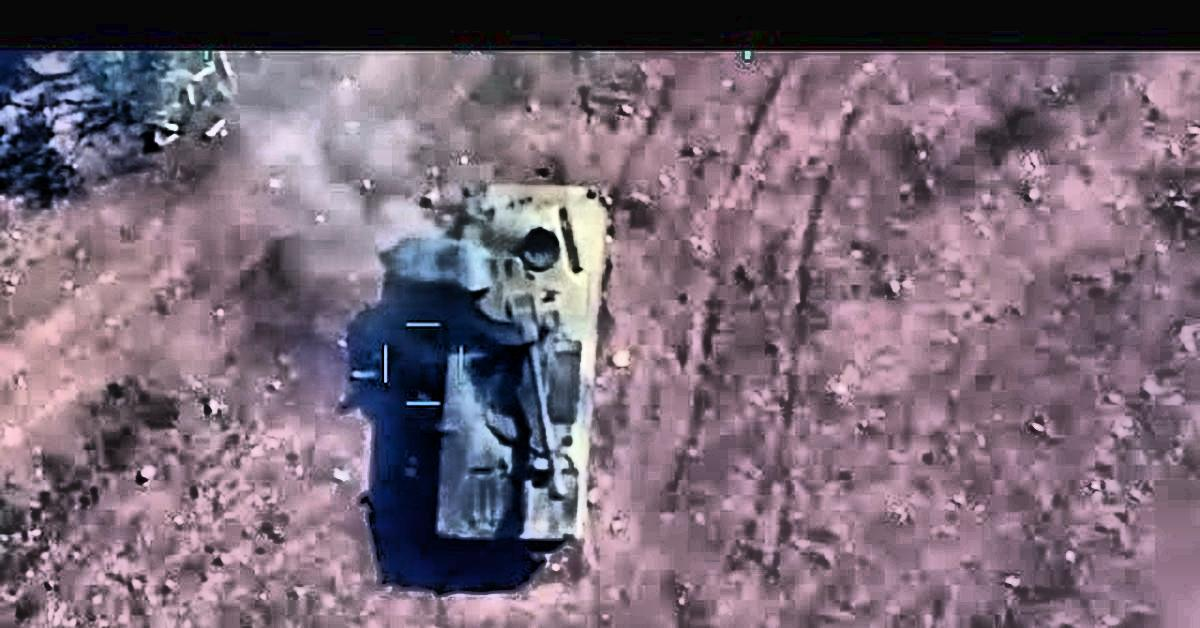military-vehicle: (439, 184, 612, 542)
